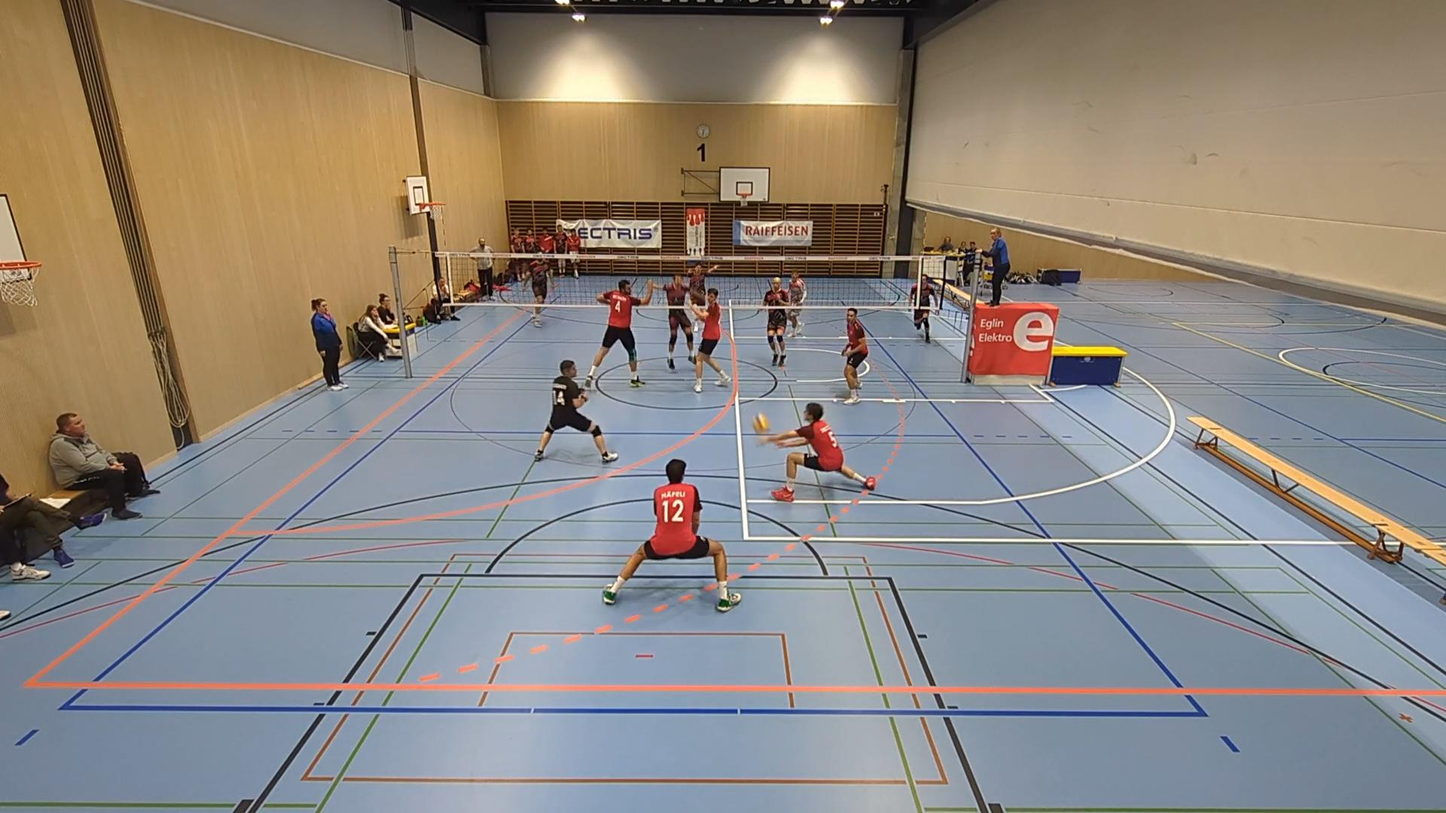difesa: (762, 404, 875, 499)
